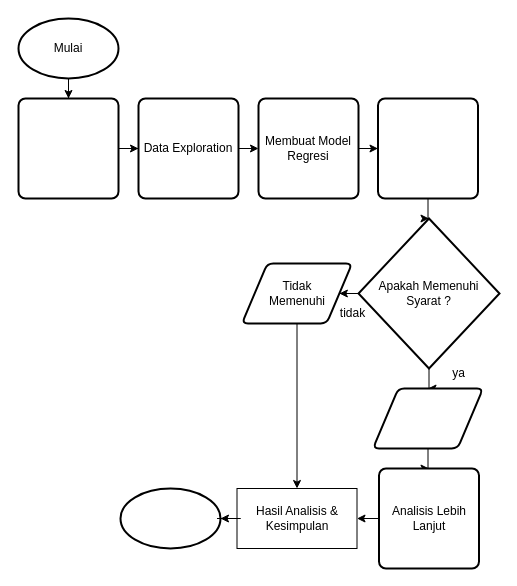
This 517x586 diagram has some shape labels left out. Each missing label, with the centre of its shape:
"Data Preparation" goes at point (68, 148).
"Memenuhi" goes at point (428, 418).
"Menguji Asumsi Syarat Uji Regresi" goes at point (427, 148).
"Selesai" goes at point (170, 518).
